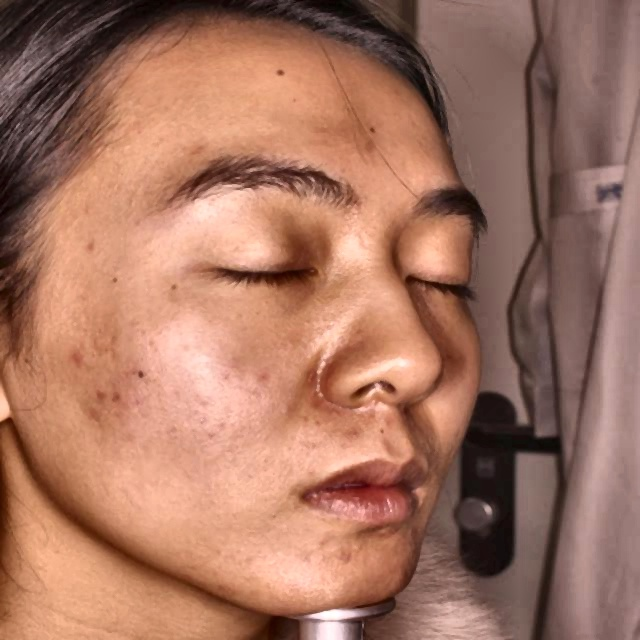comedone: (68, 341, 99, 371)
